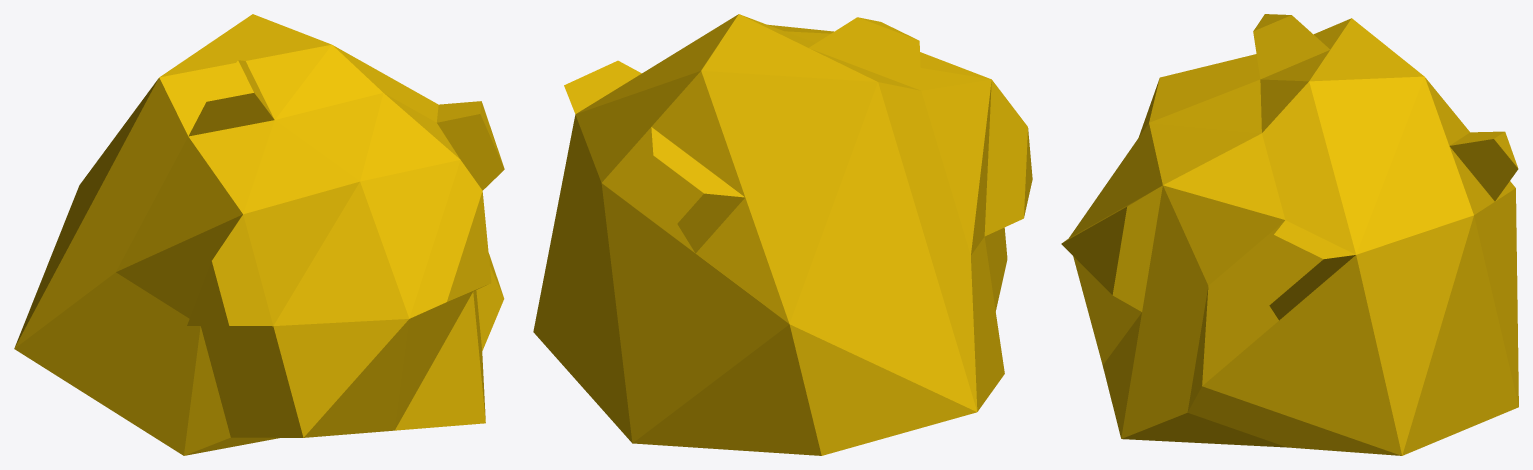
The model's file is Gold1.fbx.
3 renders of one model, left to right at view 1: azimuth 30°, elevation 25°; view 2: azimuth 150°, elevation 25°; view 3: azimuth 270°, elevation 25°, orthographic. The views are drawn at different scales.
Parts seen in each view (by area): view 1: Rock1; view 2: Rock1; view 3: Rock1.
Boxes of the visible parts, box(x1,y1,x2,y2) form: Rock1: box(14, 14, 504, 455); Rock1: box(533, 14, 1032, 455); Rock1: box(1061, 14, 1518, 455).
Size of the model in its own units: 124 by 94.69 by 114.
